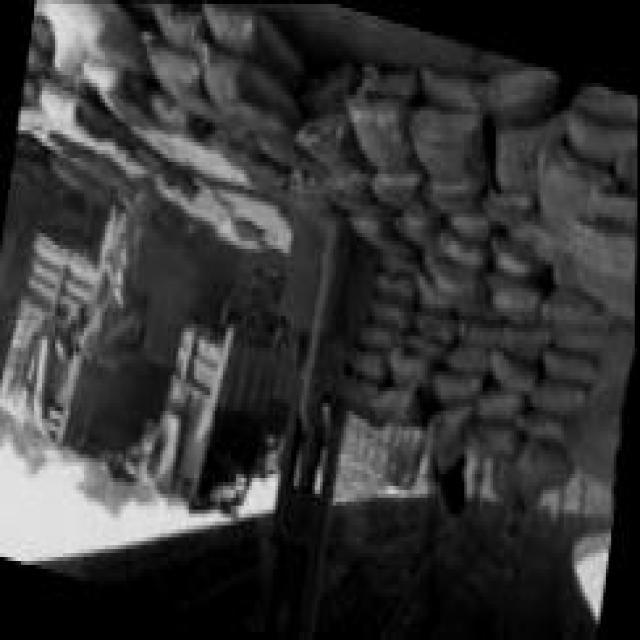gunny_bag: (203, 2, 305, 88), (45, 0, 141, 72), (207, 54, 294, 127), (565, 231, 637, 316), (407, 111, 491, 180), (293, 100, 366, 179), (141, 48, 216, 113), (495, 122, 563, 192), (347, 103, 415, 170), (81, 55, 147, 123), (487, 64, 549, 127), (563, 104, 639, 153), (505, 444, 566, 502), (579, 174, 638, 226), (540, 289, 607, 333), (301, 56, 353, 112), (490, 268, 544, 319), (530, 371, 585, 421), (468, 410, 519, 456), (396, 199, 440, 252), (427, 174, 482, 216), (490, 345, 536, 395), (372, 164, 424, 208), (360, 385, 421, 422), (344, 213, 402, 250), (543, 344, 598, 380), (481, 190, 532, 226), (518, 406, 566, 443), (441, 226, 485, 265), (348, 334, 386, 378), (506, 320, 552, 353), (366, 65, 414, 96), (454, 315, 496, 349), (369, 291, 409, 325), (414, 310, 459, 340), (435, 367, 482, 395), (389, 352, 431, 383), (475, 393, 517, 416), (376, 266, 414, 291)
